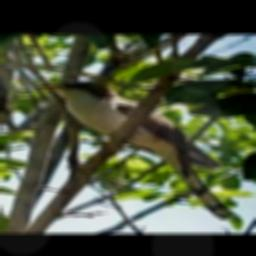Cuckoo: (33, 80, 234, 219)
